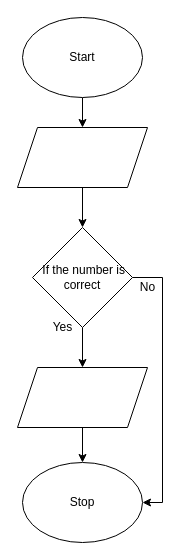
Image size: 188x560. Some labels were removed from this diagram. The centre of each missing label's shape, as x and y in pixels:
Get number: the point at 82,157
Show "correct": the point at 82,397
